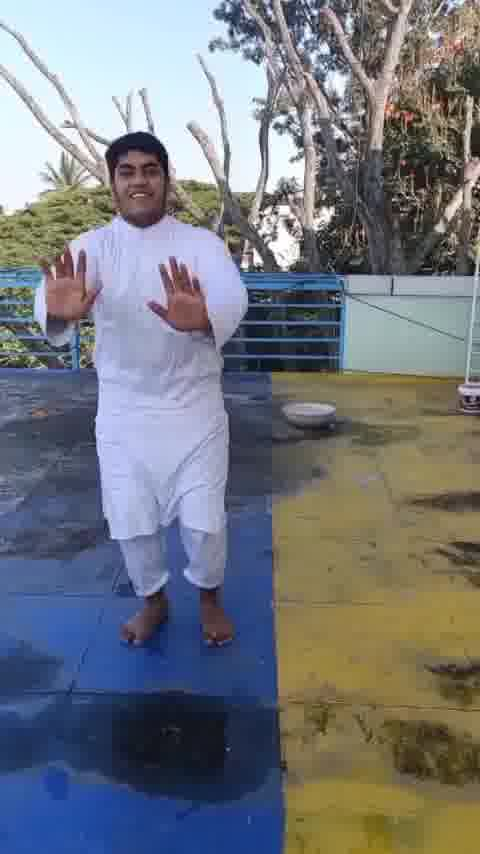duck: (28, 125, 287, 643)
